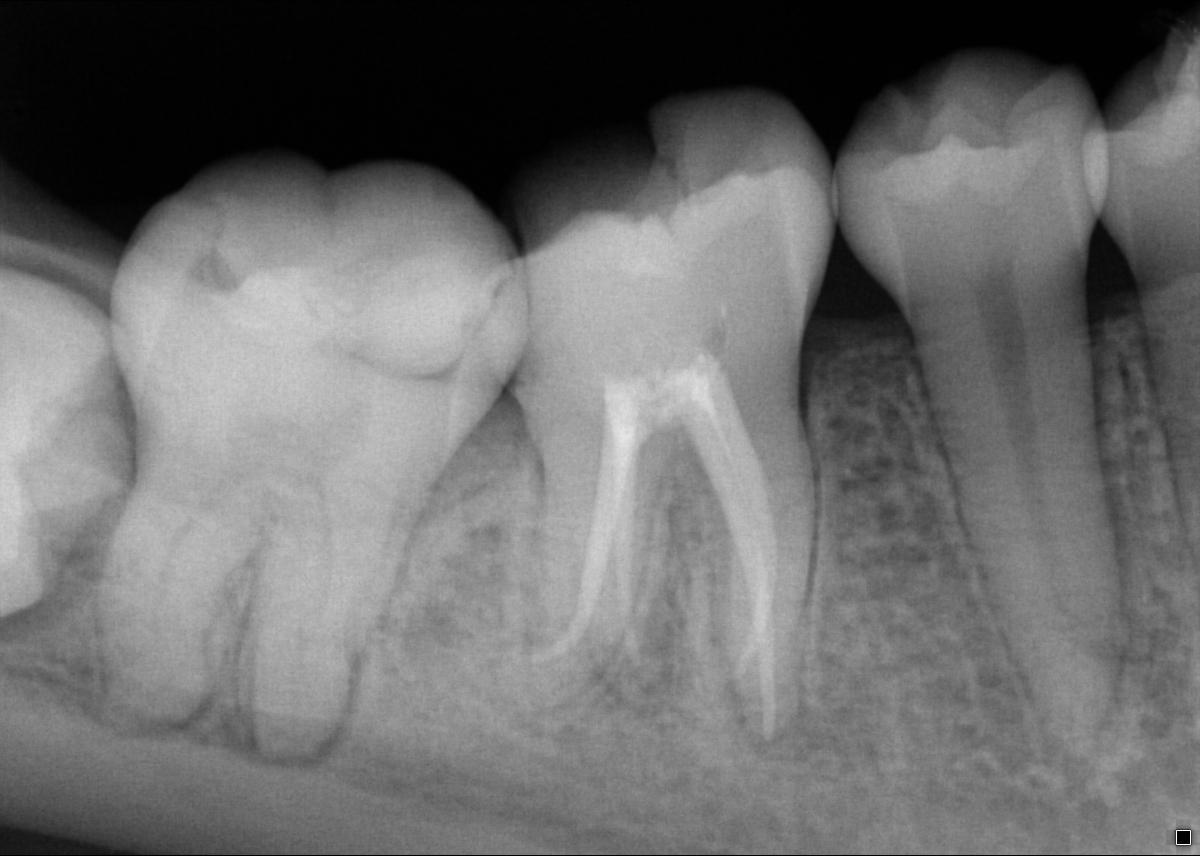Furcation Involvement: (204, 655, 362, 767), (112, 687, 216, 739)
